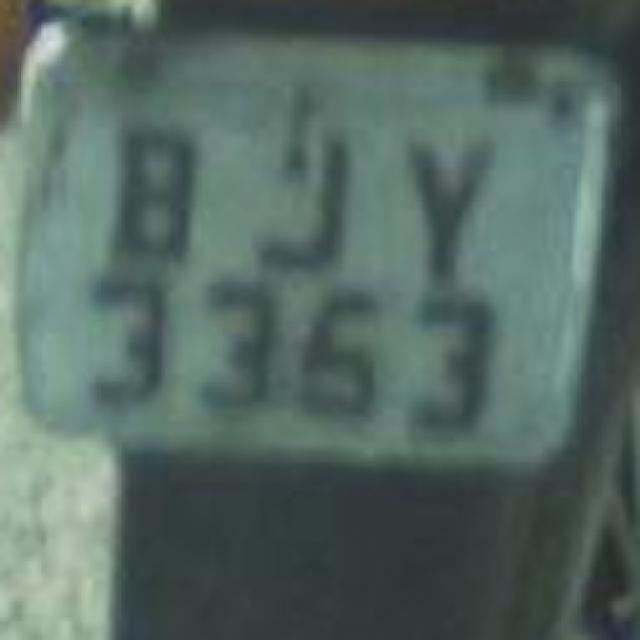3: (160, 260, 300, 428), (56, 252, 189, 428), (384, 268, 516, 444)
6: (280, 268, 395, 432)
B: (88, 104, 212, 288)
J: (244, 112, 364, 280)
Y: (380, 116, 500, 284)
